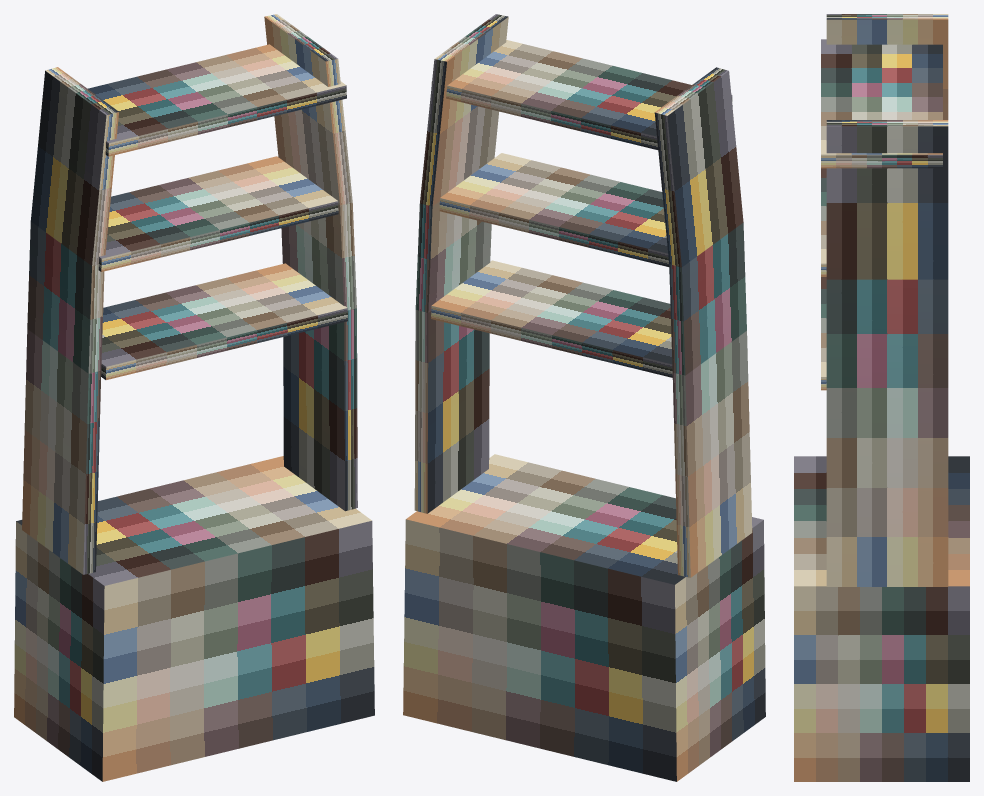
The model's file is #Collider_sheel005.fbx.
3 views of the same model, side by side, from view 1: azimuth 30°, elevation 25°; view 2: azimuth 150°, elevation 25°; view 3: azimuth 270°, elevation 25° (orthographic).
Visible parts, largest first — view 1: #Collider_sheel005; view 2: #Collider_sheel005; view 3: #Collider_sheel005.
Part boxes in pixels (left/top/right/bottom): #Collider_sheel005: left=14, top=14, right=374, bottom=781; #Collider_sheel005: left=403, top=14, right=765, bottom=781; #Collider_sheel005: left=794, top=14, right=969, bottom=781.
Size of the model in its own units: 100 by 226 by 55.71.
Materials: 1 (1 with a texture image).
